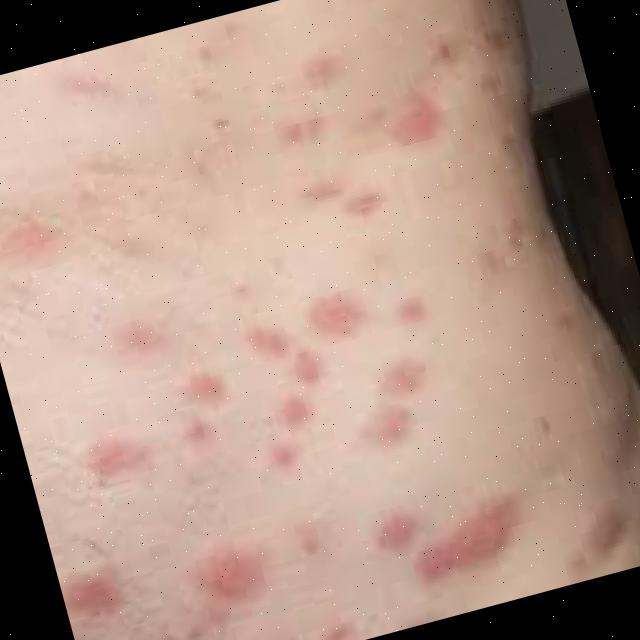kan emici bocekler: (240, 315, 348, 475), (396, 491, 542, 603), (354, 357, 436, 451), (195, 536, 278, 614), (165, 372, 231, 455), (59, 561, 133, 632), (381, 86, 445, 153), (303, 284, 365, 343), (372, 502, 428, 565), (119, 318, 174, 368), (89, 439, 148, 485), (12, 214, 65, 264), (293, 55, 346, 101), (345, 182, 388, 222), (286, 114, 328, 152), (393, 293, 432, 330), (301, 174, 339, 201)
